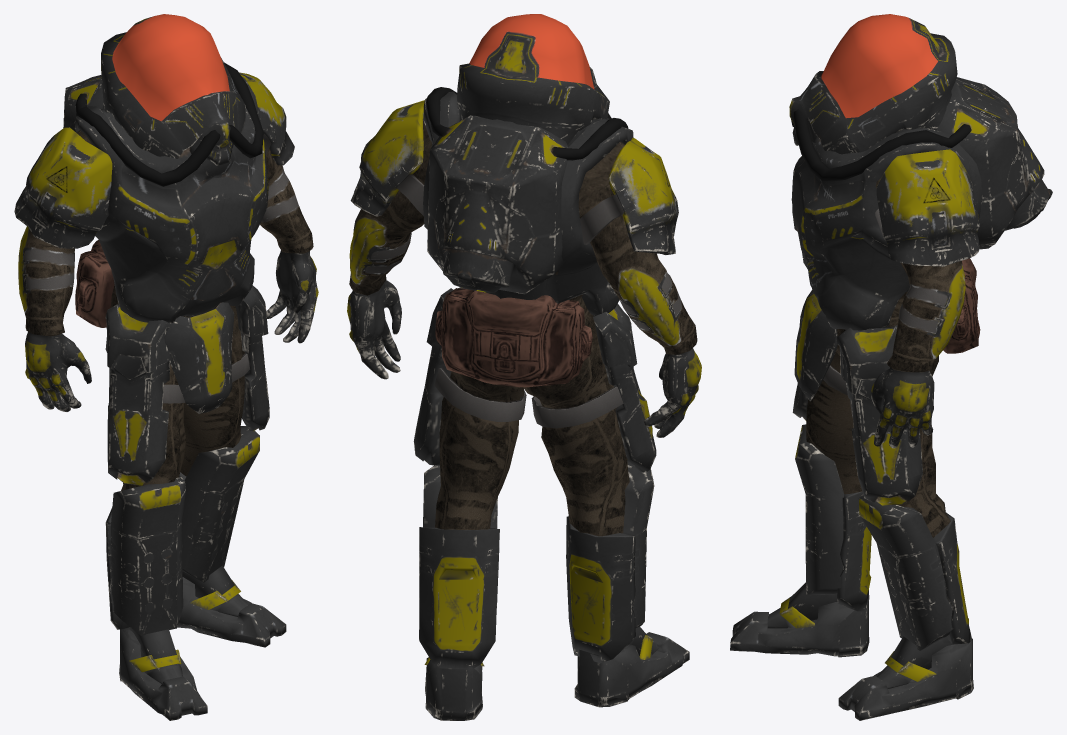
Rendered from Hazard_Unit.obj.
The picture shows the model from 3 angles, left to right: view 1: azimuth 30°, elevation 25°; view 2: azimuth 150°, elevation 25°; view 3: azimuth 270°, elevation 25°; orthographic projection. The views are drawn at different scales.
Parts seen in each view (by area): view 1: Hazard_Unit Hazard_Reference polySurface20, Hazard_Unit Hazard_Reference polySurface32, Hazard_Unit Hazard_Reference polySurface29, Hazard_Unit Hazard_Reference polySurface24, polySurface5 Hazard_Unit Hazard_Reference, Hazard_Unit Hazard_Reference polySurface25, Hazard_Unit Hazard_Reference polySurface8, Hazard_Unit Hazard_Reference polySurface31, Bag_Retopo:Bag_Low Bag_Retopo:Sci_Fi_Soldier_Low Hazard_Unit Haz; view 2: Hazard_Unit Hazard_Reference polySurface20, Hazard_Unit Hazard_Reference polySurface32, Hazard_Unit Hazard_Reference polySurface24, Hazard_Unit Hazard_Reference polySurface31, Hazard_Unit Hazard_Reference polySurface29, Bag_Retopo:Bag_Low Bag_Retopo:Sci_Fi_Soldier_Low Hazard_Unit Haz, Hazard_Unit Hazard_Reference polySurface25, polySurface5 Hazard_Unit Hazard_Reference; view 3: Hazard_Unit Hazard_Reference polySurface20, Hazard_Unit Hazard_Reference polySurface32, Hazard_Unit Hazard_Reference polySurface29, Hazard_Unit Hazard_Reference polySurface25, Hazard_Unit Hazard_Reference polySurface24, polySurface5 Hazard_Unit Hazard_Reference, Hazard_Unit Hazard_Reference polySurface31, Hazard_Unit Hazard_Reference polySurface8, Bag_Retopo:Bag_Low Bag_Retopo:Sci_Fi_Soldier_Low Hazard_Unit Haz.
Part boxes in pixels (x1,y1,x2,y2): Hazard_Unit Hazard_Reference polySurface20: (105, 426, 286, 720); Hazard_Unit Hazard_Reference polySurface32: (63, 75, 268, 323); Hazard_Unit Hazard_Reference polySurface29: (75, 14, 263, 186); Hazard_Unit Hazard_Reference polySurface24: (18, 130, 318, 411); polySurface5 Hazard_Unit Hazard_Reference: (105, 285, 269, 485); Hazard_Unit Hazard_Reference polySurface25: (14, 72, 294, 248); Hazard_Unit Hazard_Reference polySurface8: (164, 302, 234, 413); Hazard_Unit Hazard_Reference polySurface31: (110, 285, 244, 490); Bag_Retopo:Bag_Low Bag_Retopo:Sci_Fi_Soldier_Low Hazard_Unit Haz: (75, 240, 114, 327); Hazard_Unit Hazard_Reference polySurface20: (419, 459, 689, 720); Hazard_Unit Hazard_Reference polySurface32: (423, 91, 633, 315); Hazard_Unit Hazard_Reference polySurface24: (347, 119, 701, 437); Hazard_Unit Hazard_Reference polySurface31: (435, 270, 629, 536); Hazard_Unit Hazard_Reference polySurface29: (426, 14, 628, 160); Bag_Retopo:Bag_Low Bag_Retopo:Sci_Fi_Soldier_Low Hazard_Unit Haz: (435, 288, 592, 387); Hazard_Unit Hazard_Reference polySurface25: (350, 100, 678, 255); polySurface5 Hazard_Unit Hazard_Reference: (413, 287, 656, 472); Hazard_Unit Hazard_Reference polySurface20: (730, 424, 973, 720); Hazard_Unit Hazard_Reference polySurface32: (791, 77, 1052, 330); Hazard_Unit Hazard_Reference polySurface29: (789, 14, 971, 182); Hazard_Unit Hazard_Reference polySurface25: (875, 149, 979, 266); Hazard_Unit Hazard_Reference polySurface24: (871, 178, 965, 448); polySurface5 Hazard_Unit Hazard_Reference: (792, 325, 923, 505); Hazard_Unit Hazard_Reference polySurface31: (806, 291, 950, 537); Hazard_Unit Hazard_Reference polySurface8: (794, 290, 837, 401); Bag_Retopo:Bag_Low Bag_Retopo:Sci_Fi_Soldier_Low Hazard_Unit Haz: (943, 258, 980, 353).
Bounding box in the file's own units: 90.87 × 180 × 80.8.
Materials: 1 (1 with a texture image).
